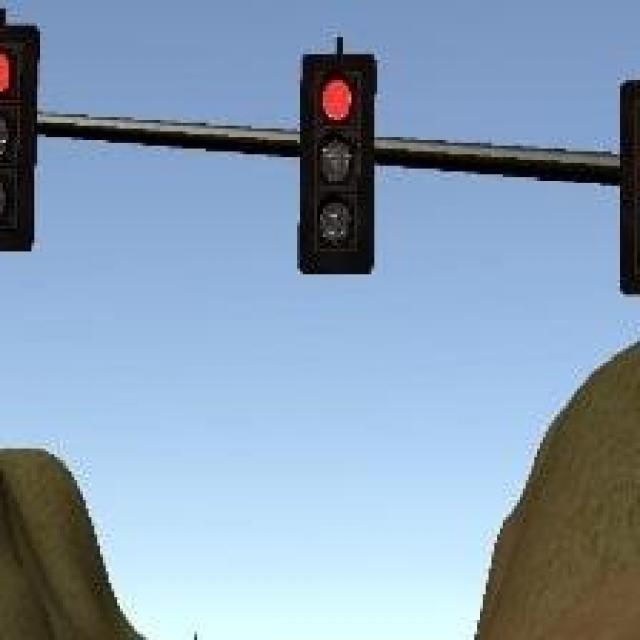red_light: (303, 52, 374, 275), (3, 20, 43, 248)
